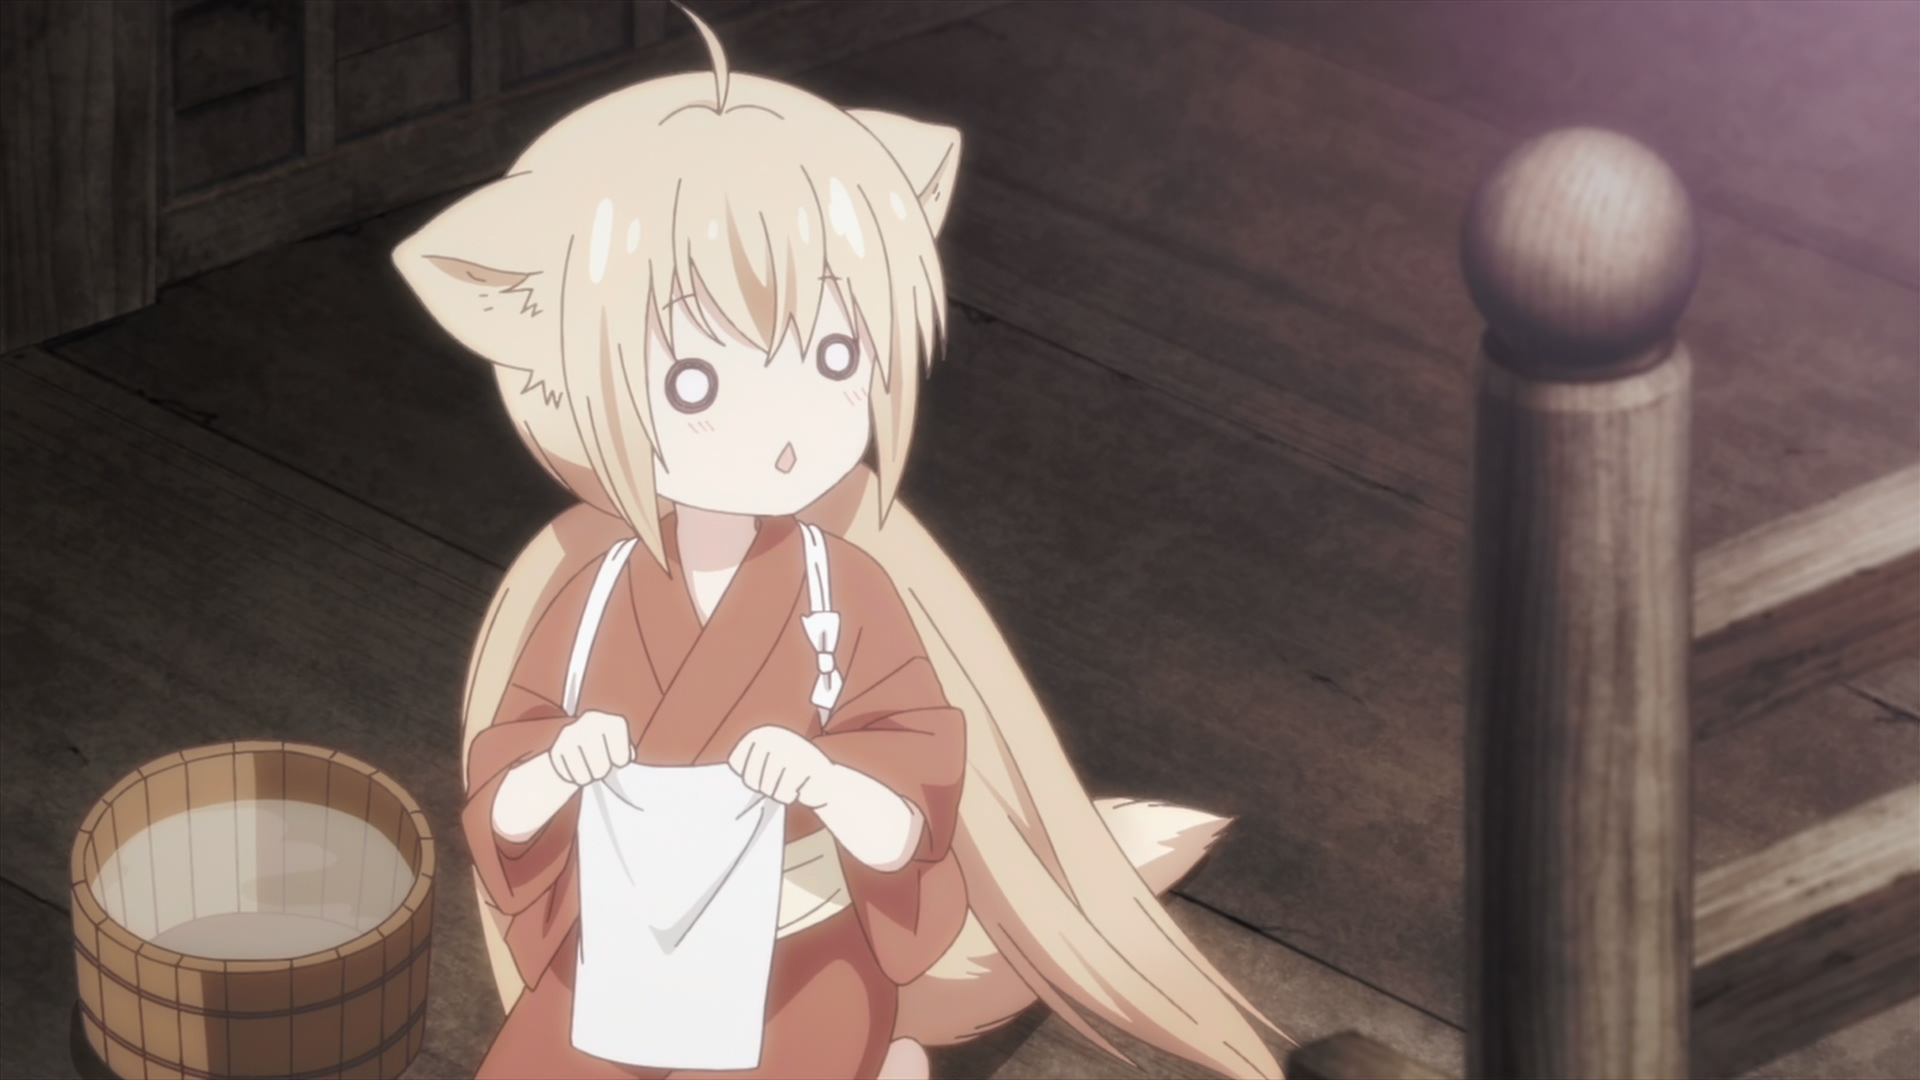柚: (389, 1, 1302, 1080)
